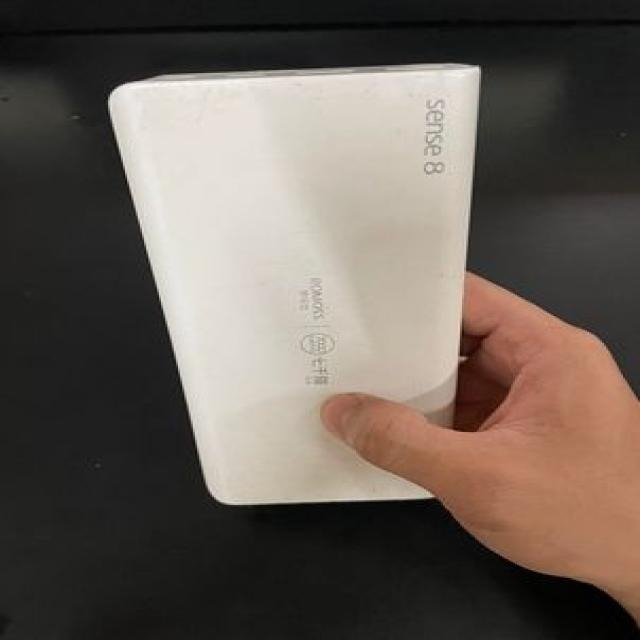portable-charger: (98, 55, 484, 514)
